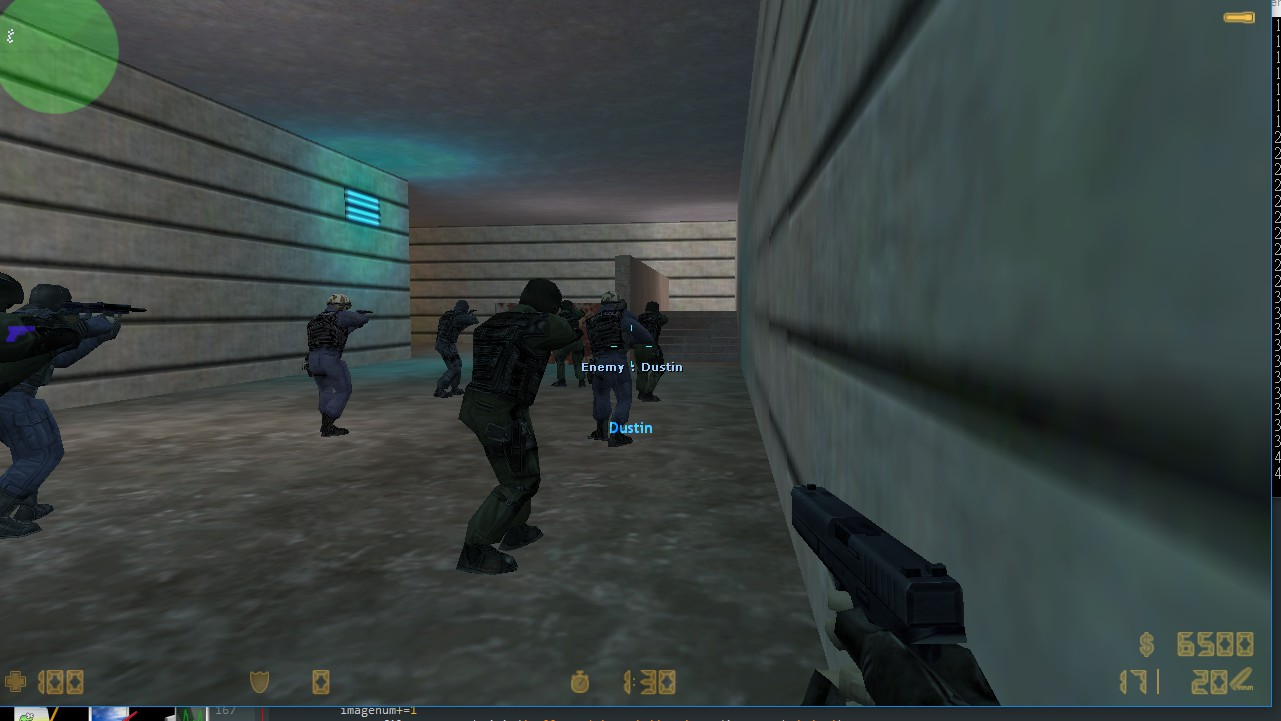person: (1, 281, 180, 542), (453, 272, 583, 595), (289, 286, 377, 458), (573, 286, 653, 461), (425, 281, 474, 409), (629, 298, 681, 413)
